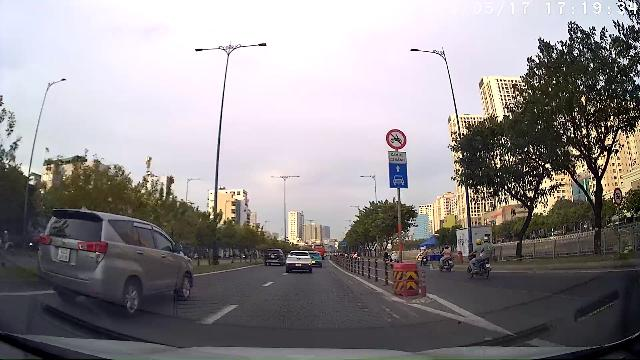103a-cam-oto: (612, 187, 623, 206)
